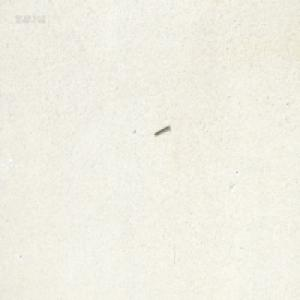Bolt: (153, 123, 169, 136)
